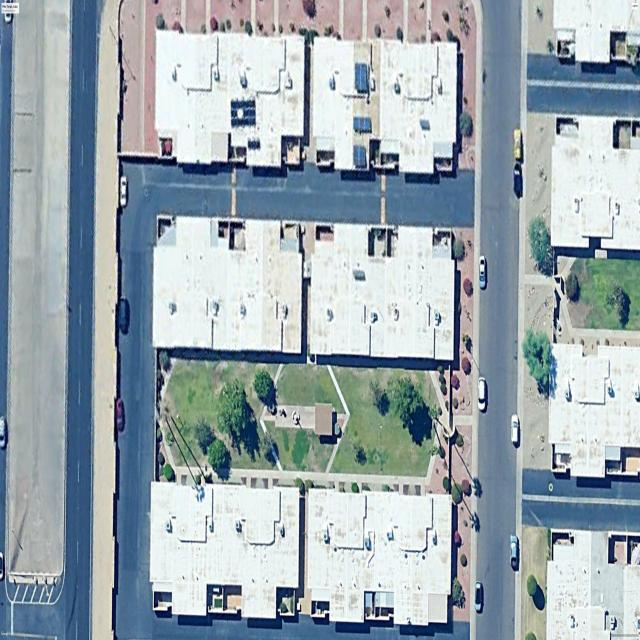Home: (152, 216, 303, 354), (306, 487, 452, 628), (149, 482, 299, 619), (308, 224, 456, 361), (155, 33, 305, 166), (548, 111, 640, 251), (549, 343, 640, 477), (376, 41, 458, 173), (546, 529, 640, 640), (310, 37, 380, 171), (553, 0, 640, 63)
